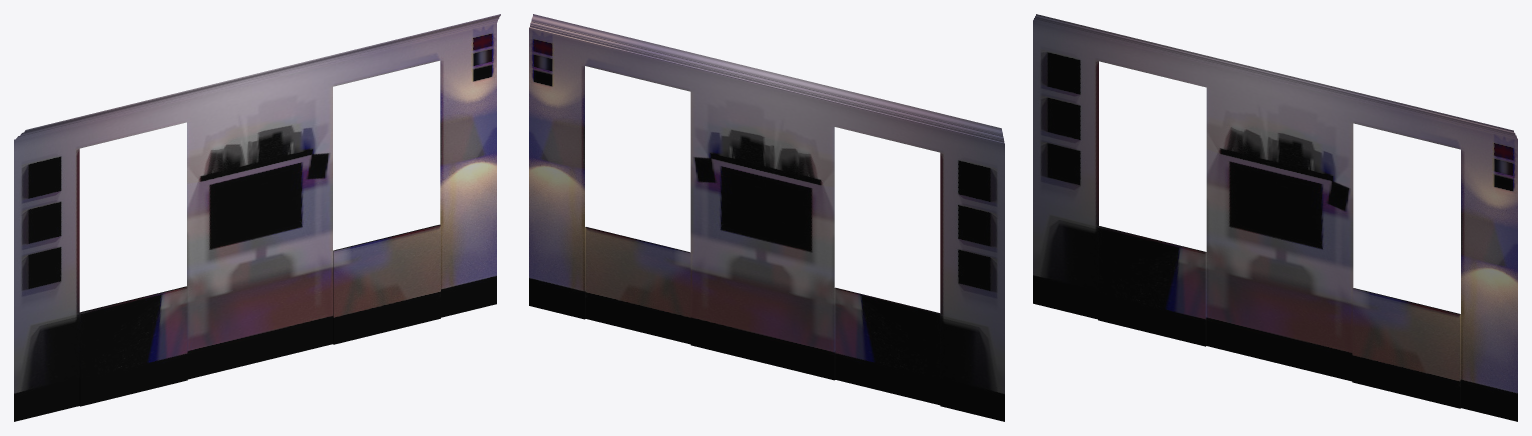
File: wall_right_front.glb
The picture shows the model from 3 angles, left to right: view 1: azimuth 30°, elevation 25°; view 2: azimuth 150°, elevation 25°; view 3: azimuth 330°, elevation 25°; orthographic projection.
Visible parts, largest first — view 1: wall_right_front; view 2: wall_right_front; view 3: wall_right_front.
Boxes of the visible parts, <box> form: wall_right_front: <box>14,14,500,421</box>; wall_right_front: <box>529,14,1004,421</box>; wall_right_front: <box>1033,14,1517,421</box>.
Size of the model in its own units: 32.4 by 18.8 by 0.48.
1 material, 1 textured.
